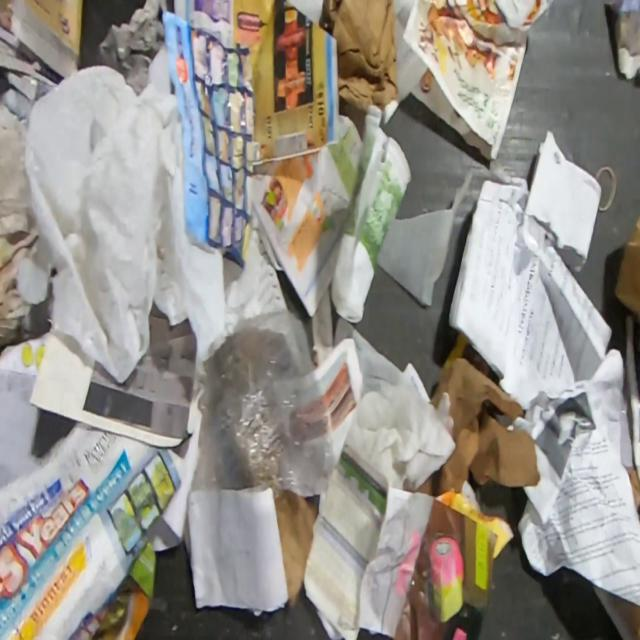cardboard: (414, 356, 541, 498), (325, 0, 400, 115), (276, 492, 319, 612), (614, 212, 640, 324)
metal: (594, 166, 617, 212)
rigid_plastic: (329, 123, 414, 324), (376, 166, 475, 309)
soft_plastic: (15, 64, 228, 386), (190, 306, 334, 502)
